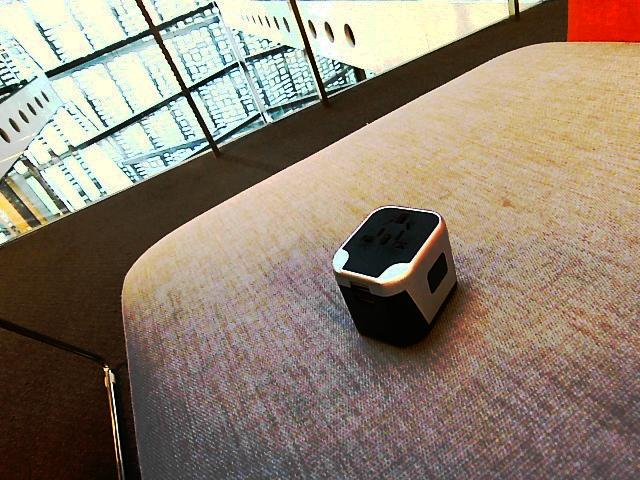adapter: (330, 204, 458, 347)
